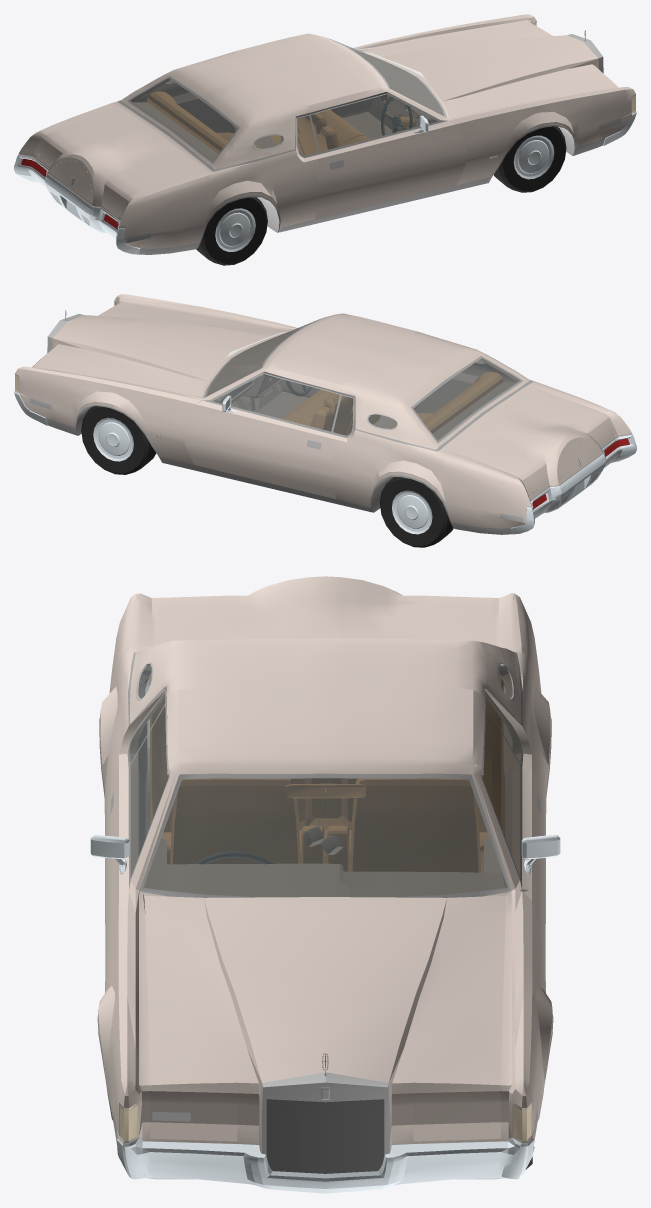
3 views of the same model, one above another, from view 1: azimuth 30°, elevation 25°; view 2: azimuth 150°, elevation 25°; view 3: azimuth 270°, elevation 25° (orthographic). The views are drawn at different scales.
Visible parts, largest first — view 1: Mesh5 body_dof1 Lincoln_Continental_Mark_IV1 Model, Mesh4 right_dof4 Lincoln_Mark_IVw4 body_dof1 Lincoln_Continental, Mesh3 right_dof3 Lincoln_Mark_IVw3 body_dof1 Lincoln_Continental, Mesh20 body_dof1 Lincoln_Continental_Mark_IV1 Model, Mesh211 Steering_wheel1 Model; view 2: Mesh5 body_dof1 Lincoln_Continental_Mark_IV1 Model, Mesh2 right_dof2 Lincoln_Mark_IVw2 body_dof1 Lincoln_Continental, Mesh1 right_dof1 Lincoln_Mark_IVw1 body_dof1 Lincoln_Continental, Mesh20 body_dof1 Lincoln_Continental_Mark_IV1 Model; view 3: Mesh5 body_dof1 Lincoln_Continental_Mark_IV1 Model, Mesh20 body_dof1 Lincoln_Continental_Mark_IV1 Model, Mesh176 body_dof1 Lincoln_Continental_Mark_IV1 Model, Mesh206 body_dof1 Lincoln_Continental_Mark_IV1 Model, Mesh208 body_dof1 Lincoln_Continental_Mark_IV1 Model, Mesh210 body_dof1 Lincoln_Continental_Mark_IV1 Model.
Part boxes in pixels (x1,y1,x2,y2): Mesh5 body_dof1 Lincoln_Continental_Mark_IV1 Model: (14, 14, 636, 254); Mesh4 right_dof4 Lincoln_Mark_IVw4 body_dof1 Lincoln_Continental: (196, 197, 267, 265); Mesh3 right_dof3 Lincoln_Mark_IVw3 body_dof1 Lincoln_Continental: (494, 126, 566, 192); Mesh20 body_dof1 Lincoln_Continental_Mark_IV1 Model: (270, 110, 368, 154); Mesh211 Steering_wheel1 Model: (381, 97, 412, 135); Mesh5 body_dof1 Lincoln_Continental_Mark_IV1 Model: (14, 294, 636, 534); Mesh2 right_dof2 Lincoln_Mark_IVw2 body_dof1 Lincoln_Continental: (380, 477, 453, 547); Mesh1 right_dof1 Lincoln_Mark_IVw1 body_dof1 Lincoln_Continental: (81, 406, 156, 474); Mesh20 body_dof1 Lincoln_Continental_Mark_IV1 Model: (281, 389, 380, 435); Mesh5 body_dof1 Lincoln_Continental_Mark_IV1 Model: (97, 576, 553, 1179); Mesh20 body_dof1 Lincoln_Continental_Mark_IV1 Model: (170, 778, 480, 872); Mesh176 body_dof1 Lincoln_Continental_Mark_IV1 Model: (116, 1137, 534, 1193); Mesh206 body_dof1 Lincoln_Continental_Mark_IV1 Model: (285, 783, 365, 798); Mesh208 body_dof1 Lincoln_Continental_Mark_IV1 Model: (521, 835, 560, 859); Mesh210 body_dof1 Lincoln_Continental_Mark_IV1 Model: (90, 835, 129, 859).
Bounding box in the file's own units: 0.9091 × 0.2256 × 0.3502.
